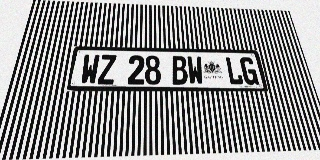2: (128, 55, 144, 85)
8: (145, 55, 161, 85)
B: (171, 56, 188, 85)
G: (239, 57, 259, 85)
L: (225, 57, 244, 85)
W: (80, 54, 100, 84), (187, 56, 204, 85)
Z: (97, 55, 116, 84)
